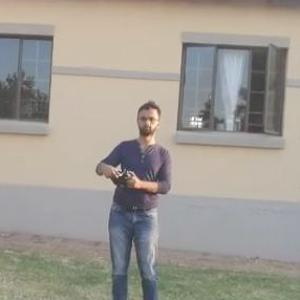follow: (91, 96, 174, 299)
